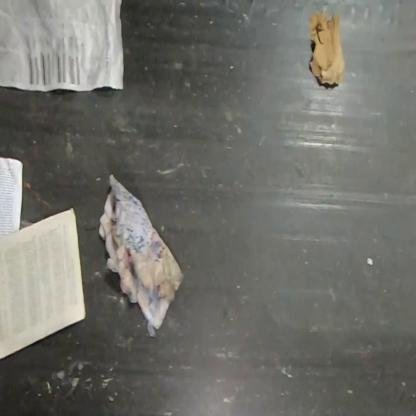cardboard: (309, 13, 346, 85)
